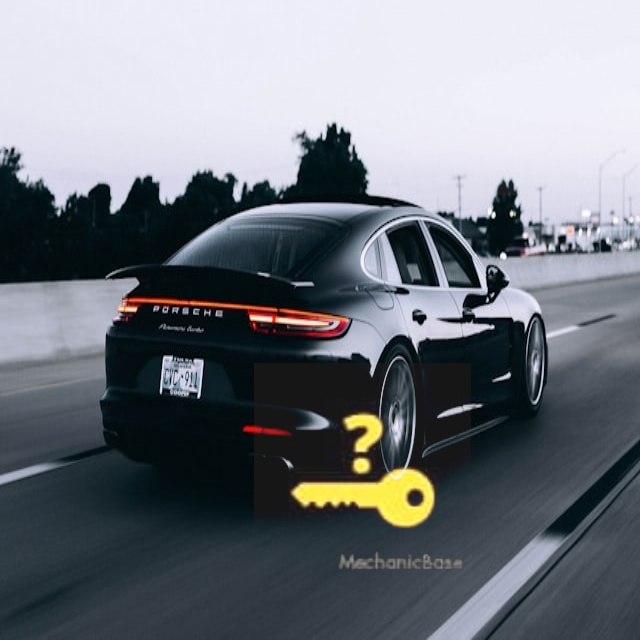symbol: (254, 363, 471, 580), (498, 68, 625, 195)
